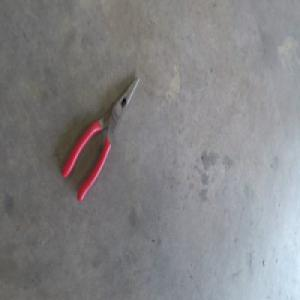Pliers: (62, 76, 140, 201)
